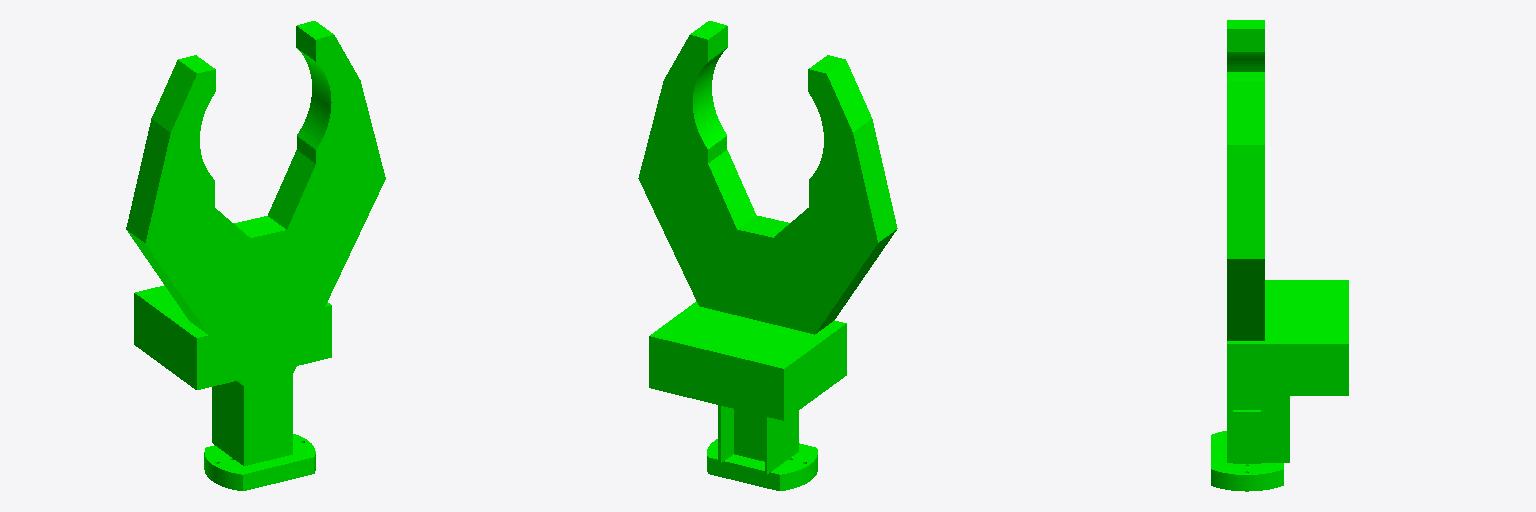
robot.urdf — ar3:
<robot name="ar3">
    <link name="base_link">
        <inertial>
            <origin xyz="-4.6941E-06 0.054174 0.038824" rpy="0 0 0" />
            <mass value="0.7102" />
            <inertia ixx="0.0039943" ixy="3.697E-07" ixz="-5.7364E-08" iyy="0.0014946" iyz="-0.00036051" izz="0.0042554" />
        </inertial>
        <visual>
            <origin xyz="0 0 0" rpy="0 0 0" />
            <geometry>
                <mesh filename="package://ar3_description/meshes/base_link.STL" />
            </geometry>
            <material name="">
                <color rgba="1 1 0 1" />
            </material>
        </visual>
        <collision>
            <origin xyz="0 0 0" rpy="0 0 0" />
            <geometry>
                <mesh filename="package://ar3_description/meshes/base_link.STL" />
            </geometry>
        </collision>
    </link>
    <link name="link_1">
        <inertial>
            <origin xyz="-0.022706 0.04294 -0.12205" rpy="0 0 0" />
            <mass value="0.88065" />
            <inertia ixx="0.0034" ixy="0.00042296" ixz="-0.00089231" iyy="0.0041778" iyz="0.0010848" izz="0.0027077" />
        </inertial>
        <visual>
            <origin xyz="0 0 0" rpy="0 0 0" />
            <geometry>
                <mesh filename="package://ar3_description/meshes/link_1.STL" />
            </geometry>
            <material name="">
                <color rgba="1 1 0 1" />
            </material>
        </visual>
        <collision>
            <origin xyz="0 0 0" rpy="0 0 0" />
            <geometry>
                <mesh filename="package://ar3_description/meshes/link_1.STL" />
            </geometry>
        </collision>
    </link>
    <joint name="joint_1" type="revolute">
        <origin xyz="0 0 0.003445" rpy="3.1416 -1.0248E-21 -1.6736E-05" />
        <parent link="base_link" />
        <child link="link_1" />
        <axis xyz="0 0 1" />
        <limit lower="-2.96706" upper="2.96706" effort="0" velocity="0" />
    </joint>
    <link name="link_2">
        <inertial>
            <origin xyz="0.064818 -0.11189 -0.038671" rpy="0 0 0" />
            <mass value="0.57738" />
            <inertia ixx="0.0047312" ixy="0.0022624" ixz="0.00032144" iyy="0.0020836" iyz="-0.00056569" izz="0.0056129" />
        </inertial>
        <visual>
            <origin xyz="0 0 0" rpy="0 0 0" />
            <geometry>
                <mesh filename="package://ar3_description/meshes/link_2.STL" />
            </geometry>
            <material name="">
                <color rgba="1 1 0 1" />
            </material>
        </visual>
        <collision>
            <origin xyz="0 0 0" rpy="0 0 0" />
            <geometry>
                <mesh filename="package://ar3_description/meshes/link_2.STL" />
            </geometry>
        </collision>
    </link>
    <joint name="joint_2" type="revolute">
        <origin xyz="0 0.064146 -0.16608" rpy="1.5708 0.5236 -1.5708" />
        <parent link="link_1" />
        <child link="link_2" />
        <axis xyz="0 0 -1" />
        <limit lower="-0.69115024" upper="1.570796" effort="0" velocity="0" />
    </joint>
    <link name="link_3">
        <inertial>
            <origin xyz="-0.00029765 -0.023661 -1.04720367321" rpy="0 0 0" />
            <mass value="0.1787" />
            <inertia ixx="0.0001685" ixy="-2.7713E-05" ixz="5.6885E-06" iyy="0.00012865" iyz="2.9256E-05" izz="0.00020744" />
        </inertial>
        <visual>
            <origin xyz="0 0 0" rpy="0 0 0" />
            <geometry>
                <mesh filename="package://ar3_description/meshes/link_3.STL" />
            </geometry>
            <material name="">
                <color rgba="1 1 0 1" />
            </material>
        </visual>
        <collision>
            <origin xyz="0 0 0" rpy="0 0 0" />
            <geometry>
                <mesh filename="package://ar3_description/meshes/link_3.STL" />
            </geometry>
        </collision>
    </link>
    <joint name="joint_3" type="revolute">
        <origin xyz="0.1525 -0.26414 0" rpy="3.3431E-16 -1.4164E-16 -1.047197" />
        <parent link="link_2" />
        <child link="link_3" />
        <axis xyz="0 0 -1" />
        <limit lower="0" upper="2.5080381" effort="0" velocity="0" />
    </joint>
    <link name="link_4">
        <inertial>
            <origin xyz="-0.0016798 -0.00057319 -0.074404" rpy="0 0 0" />
            <mass value="0.34936" />
            <inertia ixx="0.0030532" ixy="-1.8615E-05" ixz="-7.0047E-05" iyy="0.0031033" iyz="-2.3301E-05" izz="0.00022264" />
        </inertial>
        <visual>
            <origin xyz="0 0 0" rpy="0 0 0" />
            <geometry>
                <mesh filename="package://ar3_description/meshes/link_4.STL" />
            </geometry>
            <material name="">
                <color rgba="1 1 0 1" />
            </material>
        </visual>
        <collision>
            <origin xyz="0 0 0" rpy="0 0 0" />
            <geometry>
                <mesh filename="package://ar3_description/meshes/link_4.STL" />
            </geometry>
        </collision>
    </link>
    <joint name="joint_4" type="revolute">
        <origin xyz="0 0 0.00675" rpy="1.5708 -1.2554 -1.5708" />
        <parent link="link_3" />
        <child link="link_4" />
        <axis xyz="0 0 -1" />
        <limit lower="-2.8710666" upper="2.8710666" effort="0" velocity="0" />
    </joint>
    <link name="link_5">
        <inertial>
            <origin xyz="0.0015066 -1.3102E-05 -0.012585" rpy="0 0 0" />
            <mass value="0.11562" />
            <inertia ixx="5.5035E-05" ixy="-1.019E-08" ixz="-2.6243E-06" iyy="8.2921E-05" iyz="1.4437E-08" izz="5.2518E-05" />
        </inertial>
        <visual>
            <origin xyz="0 0 0" rpy="0 0 0" />
            <geometry>
                <mesh filename="package://ar3_description/meshes/link_5.STL" />
            </geometry>
            <material name="">
                <color rgba="1 1 0 1" />
            </material>
        </visual>
        <collision>
            <origin xyz="0 0 0" rpy="0 0 0" />
            <geometry>
                <mesh filename="package://ar3_description/meshes/link_5.STL" />
            </geometry>
        </collision>
    </link>
    <joint name="joint_5" type="revolute">
        <origin xyz="0 0 -0.22225" rpy="3.1416 0 -2.8262" />
        <parent link="link_4" />
        <child link="link_5" />
        <axis xyz="-1 0 0" />
        <limit lower="-1.81776042" upper="1.81776042" effort="0" velocity="0" />
    </joint>
    <link name="link_6">
        <inertial>
            <origin xyz="2.9287E-10 -1.6472E-09 0.0091432" rpy="0 0 0" />
            <mass value="0.013863" />
            <inertia ixx="1.3596E-06" ixy="3.0585E-13" ixz="5.7102E-14" iyy="1.7157E-06" iyz="6.3369E-09" izz="2.4332E-06" />
        </inertial>
        <visual>
            <origin xyz="0 0 0" rpy="0 0 0" />
            <geometry>
                <mesh filename="package://ar3_description/meshes/link_6.STL" />
            </geometry>
            <material name="">
                <color rgba="1 1 0 1" />
            </material>
        </visual>
        <collision>
            <origin xyz="0 0 0" rpy="0 0 0" />
            <geometry>
                <mesh filename="package://ar3_description/meshes/link_6.STL" />
            </geometry>
        </collision>
    </link>
    <joint name="joint_6" type="revolute">
        <origin xyz="-0.000294 0 0.02117" rpy="0 0 3.1416" />
        <parent link="link_5" />
        <child link="link_6" />
        <axis xyz="0 0 1" />
        <limit lower="-2.5848326" upper="2.5848326" effort="0" velocity="0" />
    </joint>
    <link name="link_7">
        <inertial>
            <origin xyz="0 0 0" rpy="0 0 0" />
            <mass value="0.013863" />
            <inertia ixx="1.3596E-06" ixy="3.0585E-13" ixz="5.7102E-14" iyy="1.7157E-06" iyz="6.3369E-09" izz="2.4332E-06" />
        </inertial>
        <visual>
            <origin xyz="0 0 0" rpy="0 0 0" />
            <geometry>
                <mesh filename="package://ar3_description/meshes/link_7.STL" />
            </geometry>
            <material name="">
                <color rgba="0 1 0 1" />
            </material>
        </visual>
        <collision>
            <origin xyz="0 0 0" rpy="0 0 0" />
            <geometry>
                <mesh filename="package://ar3_description/meshes/link_7.STL" />
            </geometry>
        </collision>
    </link>
    <joint name="joint_7" type="fixed">
        <origin xyz="-0.0236 -0.0156 0.0165" rpy="0 0 0" />
        <parent link="link_6" />
        <child link="link_7" />
    </joint>
    <link name="link_8">
        <inertial>
            <origin xyz="2.9287E-10 -1.6472E-09 0.05" rpy="0 0 0" />
            <mass value="0.013863" />
            <inertia ixx="1.3596E-06" ixy="3.0585E-13" ixz="5.7102E-14" iyy="1.7157E-06" iyz="6.3369E-09" izz="2.4332E-06" />
        </inertial>
        <visual>
            <origin xyz="0 0 0" rpy="0 0 0" />
            <geometry>
                <mesh filename="package://ar3_description/meshes/link_8.STL" />
            </geometry>
            <material name="">
                <color rgba="0 1 0 1" />
            </material>
        </visual>
        <collision>
            <origin xyz="0 0 0" rpy="0 0 0" />
            <geometry>
                <mesh filename="package://ar3_description/meshes/link_8.STL" />
            </geometry>
        </collision>
    </link>
    <joint name="joint_8" type="fixed">
        <origin xyz="0.025 0.025 0.008" rpy="0 1.5708 0" />
        <parent link="link_7" />
        <child link="link_8" />
    </joint>
    <ros2_control name="joint_trajectory_controller" type="system">
        <hardware>
            <plugin>ar3_hardware/Ar3SystemHardware</plugin>
        </hardware>
        <joint name="joint_1">
            <param name="initial_position">0.0</param>
            <command_interface name="position" />
            <state_interface name="position" />
        </joint>
        <joint name="joint_2">
            <param name="initial_position">0.0</param>
            <command_interface name="position" />
            <state_interface name="position" />
        </joint>
        <joint name="joint_3">
            <param name="initial_position">0.0</param>
            <command_interface name="position" />
            <state_interface name="position" />
        </joint>
        <joint name="joint_4">
            <param name="initial_position">0.0</param>
            <command_interface name="position" />
            <state_interface name="position" />
        </joint>
        <joint name="joint_5">
            <param name="initial_position">0.0</param>
            <command_interface name="position" />
            <state_interface name="position" />
        </joint>
        <joint name="joint_6">
            <param name="initial_position">0.0</param>
            <command_interface name="position" />
            <state_interface name="position" />
        </joint>
        <joint name="joint_7">
            <param name="initial_position">0.0</param>
            <command_interface name="position" />
            <state_interface name="position" />
        </joint>
        <joint name="joint_8">
            <param name="initial_position">0.0</param>
            <command_interface name="position" />
            <state_interface name="position" />
        </joint>
    </ros2_control>
    <transmission name="trans_joint_1">
        <type>transmission_interface/SimpleTransmission</type>
        <joint name="joint_1">
            <hardwareInterface>hardware_interface/PositionJointInterface</hardwareInterface>
        </joint>
        <actuator name="joint_1_motor">
            <hardwareInterface>hardware_interface/PositionJointInterface</hardwareInterface>
            <mechanicalReduction>1</mechanicalReduction>
        </actuator>
    </transmission>
    <transmission name="trans_joint_2">
        <type>transmission_interface/SimpleTransmission</type>
        <joint name="joint_2">
            <hardwareInterface>hardware_interface/PositionJointInterface</hardwareInterface>
        </joint>
        <actuator name="joint_2_motor">
            <hardwareInterface>hardware_interface/PositionJointInterface</hardwareInterface>
            <mechanicalReduction>1</mechanicalReduction>
        </actuator>
    </transmission>
    <transmission name="trans_joint_3">
        <type>transmission_interface/SimpleTransmission</type>
        <joint name="joint_3">
            <hardwareInterface>hardware_interface/PositionJointInterface</hardwareInterface>
        </joint>
        <actuator name="joint_3_motor">
            <hardwareInterface>hardware_interface/PositionJointInterface</hardwareInterface>
            <mechanicalReduction>1</mechanicalReduction>
        </actuator>
    </transmission>
    <transmission name="trans_joint_4">
        <type>transmission_interface/SimpleTransmission</type>
        <joint name="joint_4">
            <hardwareInterface>hardware_interface/PositionJointInterface</hardwareInterface>
        </joint>
        <actuator name="joint_4_motor">
            <hardwareInterface>hardware_interface/PositionJointInterface</hardwareInterface>
            <mechanicalReduction>1</mechanicalReduction>
        </actuator>
    </transmission>
    <transmission name="trans_joint_5">
        <type>transmission_interface/SimpleTransmission</type>
        <joint name="joint_5">
            <hardwareInterface>hardware_interface/PositionJointInterface</hardwareInterface>
        </joint>
        <actuator name="joint_5_motor">
            <hardwareInterface>hardware_interface/PositionJointInterface</hardwareInterface>
            <mechanicalReduction>1</mechanicalReduction>
        </actuator>
    </transmission>
    <transmission name="trans_joint_6">
        <type>transmission_interface/SimpleTransmission</type>
        <joint name="joint_6">
            <hardwareInterface>hardware_interface/PositionJointInterface</hardwareInterface>
        </joint>
        <actuator name="joint_6_motor">
            <hardwareInterface>hardware_interface/PositionJointInterface</hardwareInterface>
            <mechanicalReduction>1</mechanicalReduction>
        </actuator>
    </transmission>
    <gazebo>
        <plugin name="gazebo_ros_control">
            <robotNamespace>/</robotNamespace>
        </plugin>
    </gazebo>
</robot>

--- Facts derived from the render (not from the file) ---
3 views of the same robot in one strip: view 1: azimuth 30°, elevation 25°; view 2: azimuth 150°, elevation 25°; view 3: azimuth 270°, elevation 25° (orthographic).
Model ar3 with 9 links and 8 joints (6 revolute, 2 fixed), rooted at base_link, posed all joints at 0.
Links seen in each view (by area): view 1: link_8, link_7; view 2: link_8, link_7; view 3: link_8, link_7.
Link boxes in pixels (box(x1,y1,x2,y2)): link_8: box(126, 21, 385, 465); link_7: box(204, 434, 315, 490); link_8: box(638, 21, 897, 474); link_7: box(707, 439, 817, 490); link_8: box(1227, 20, 1348, 462); link_7: box(1211, 410, 1283, 491).
Size in the robot's own frame: 0.1198 by 0.0608 by 0.2031 metres.
Meshes: 9 distinct files referenced, 2 mesh visuals loaded (2 binary STL); not drawn: 7 (reference not matched to a file when rendering).